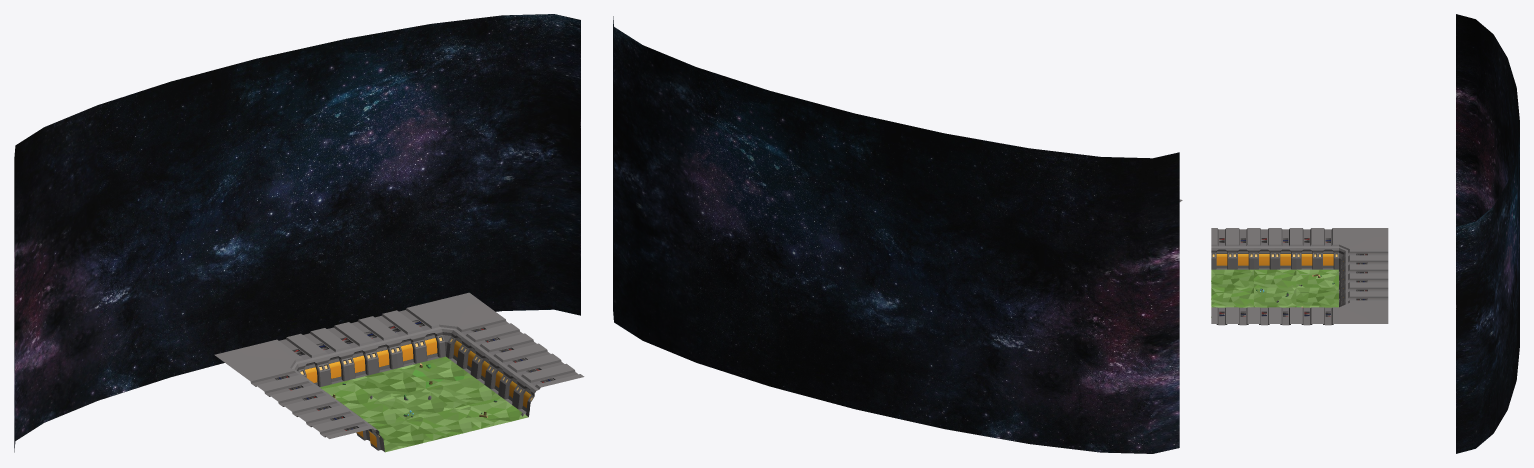
The model's file is Title_Background_Scene.fbx.
The picture shows the model from 3 angles, left to right: view 1: azimuth 30°, elevation 25°; view 2: azimuth 150°, elevation 25°; view 3: azimuth 270°, elevation 25°; orthographic projection. The views are drawn at different scales.
Visible parts, largest first — view 1: Background, Title_Scene_Background; view 2: Background; view 3: Background, Title_Scene_Background.
Boxes of the visible parts, bbox=[...] form: Background: bbox=[14, 14, 580, 452]; Title_Scene_Background: bbox=[214, 292, 584, 452]; Background: bbox=[613, 16, 1179, 453]; Background: bbox=[1456, 14, 1519, 453]; Title_Scene_Background: bbox=[1211, 228, 1388, 325].
Size of the model in its own units: 8533 by 4256 by 5237.
Materials: 2 (2 with a texture image).
